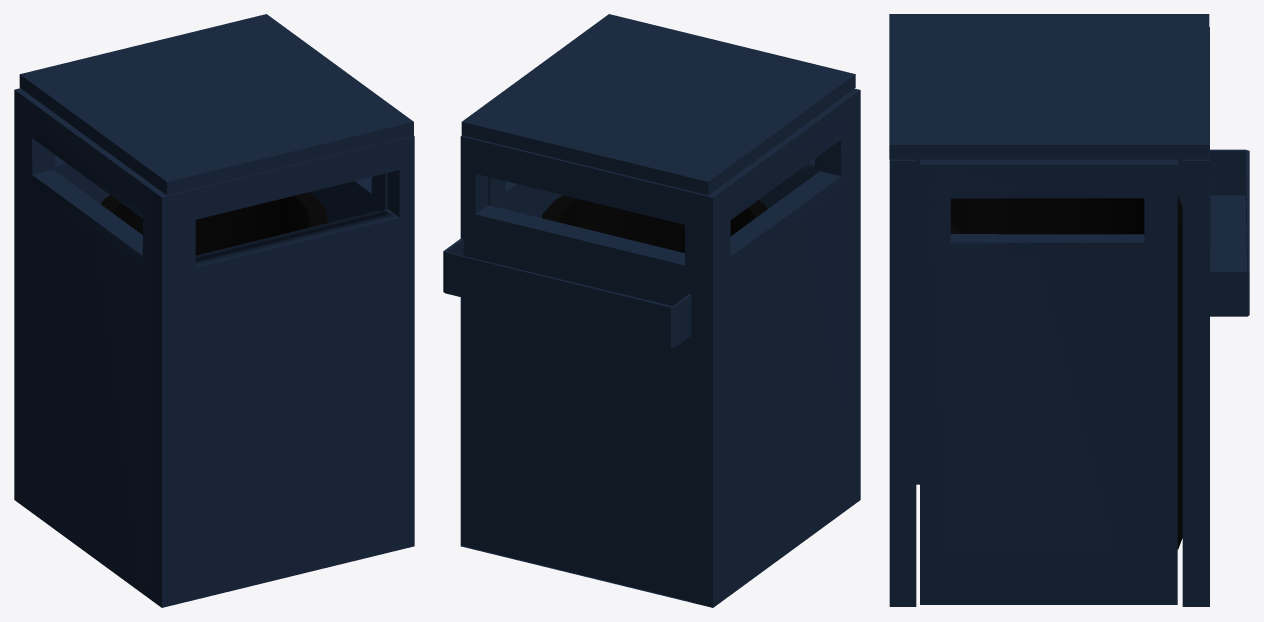
File: CopenhagenTrashCan.fbx
3 views of the same model, side by side, from view 1: azimuth 30°, elevation 25°; view 2: azimuth 150°, elevation 25°; view 3: azimuth 270°, elevation 25° (orthographic). The views are drawn at different scales.
Visible parts, largest first — view 1: TrashCan; view 2: TrashCan; view 3: TrashCan.
Boxes of the visible parts, box(x1,y1,x2,y2) form: TrashCan: box(14, 14, 414, 607); TrashCan: box(443, 14, 860, 607); TrashCan: box(889, 14, 1249, 606).
Size of the model in its own units: 86.1 by 137 by 97.21.
